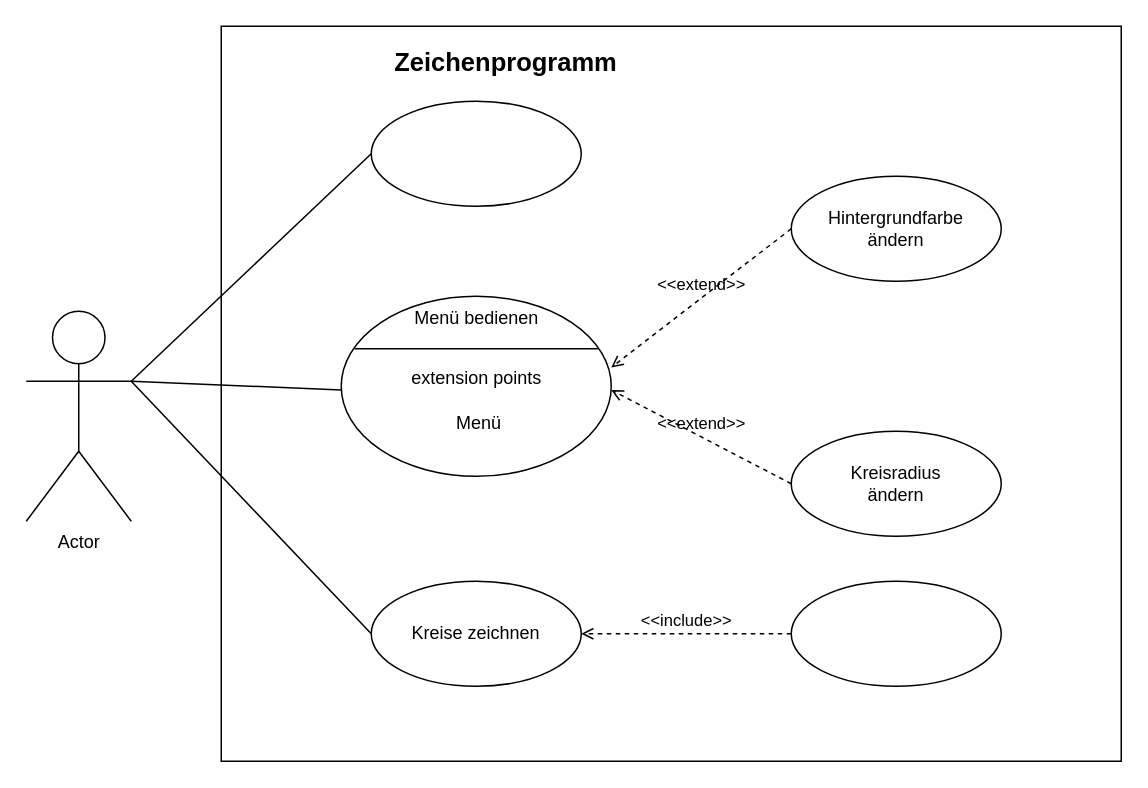
The diagram is 1148 pixels wide and 788 high, and some of its shapes have lost their labels. The shapes that lost their labels are listed below. From the top down, each one's box as (x1, y1, x2, y2) in pixels, then its label:
(370, 100, 581, 206): Anwendung öffnen
(790, 580, 1001, 686): Canvas clearen
